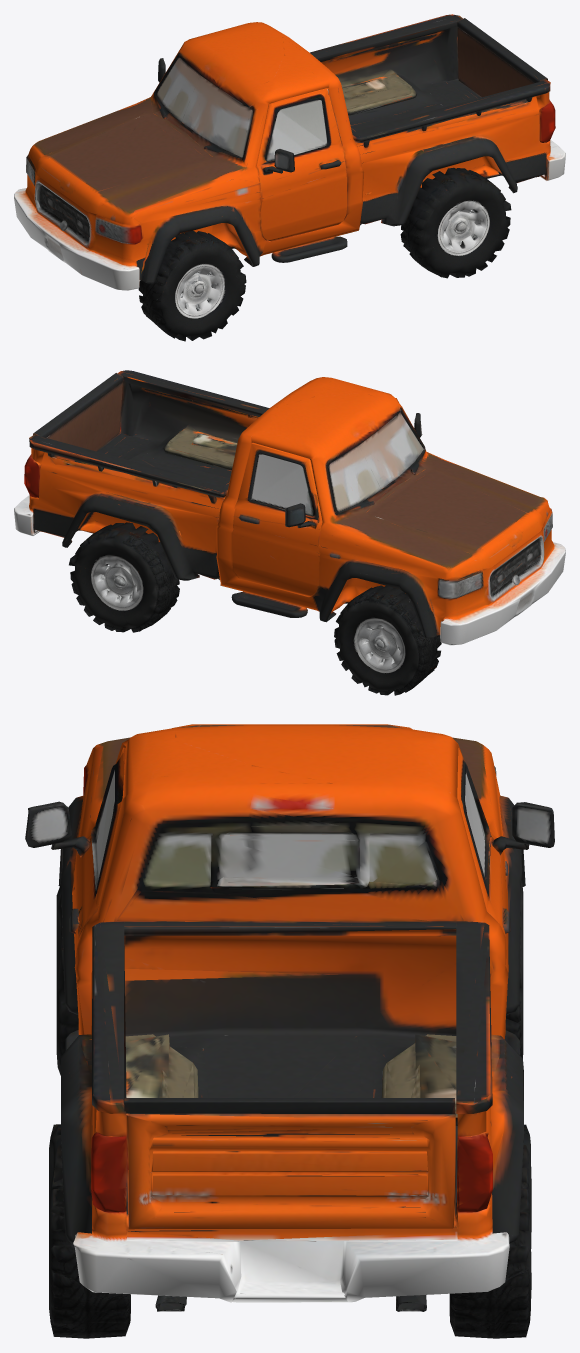
The model's file is trafficPickup.f22a5570.glb.
The picture shows the model from 3 angles, top to bottom: view 1: azimuth 30°, elevation 25°; view 2: azimuth 150°, elevation 25°; view 3: azimuth 270°, elevation 25°; orthographic projection. The views are drawn at different scales.
Bounding box in the file's own units: 0.9556 × 0.4258 × 0.4692.
Materials: 1 (1 with a texture image).
